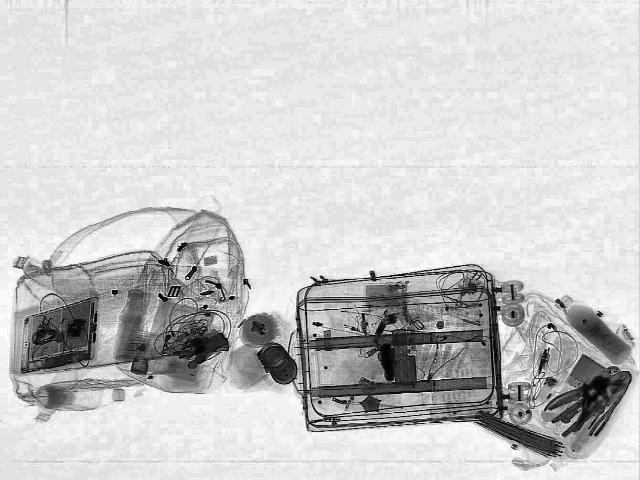Pliers: (553, 364, 639, 434)
